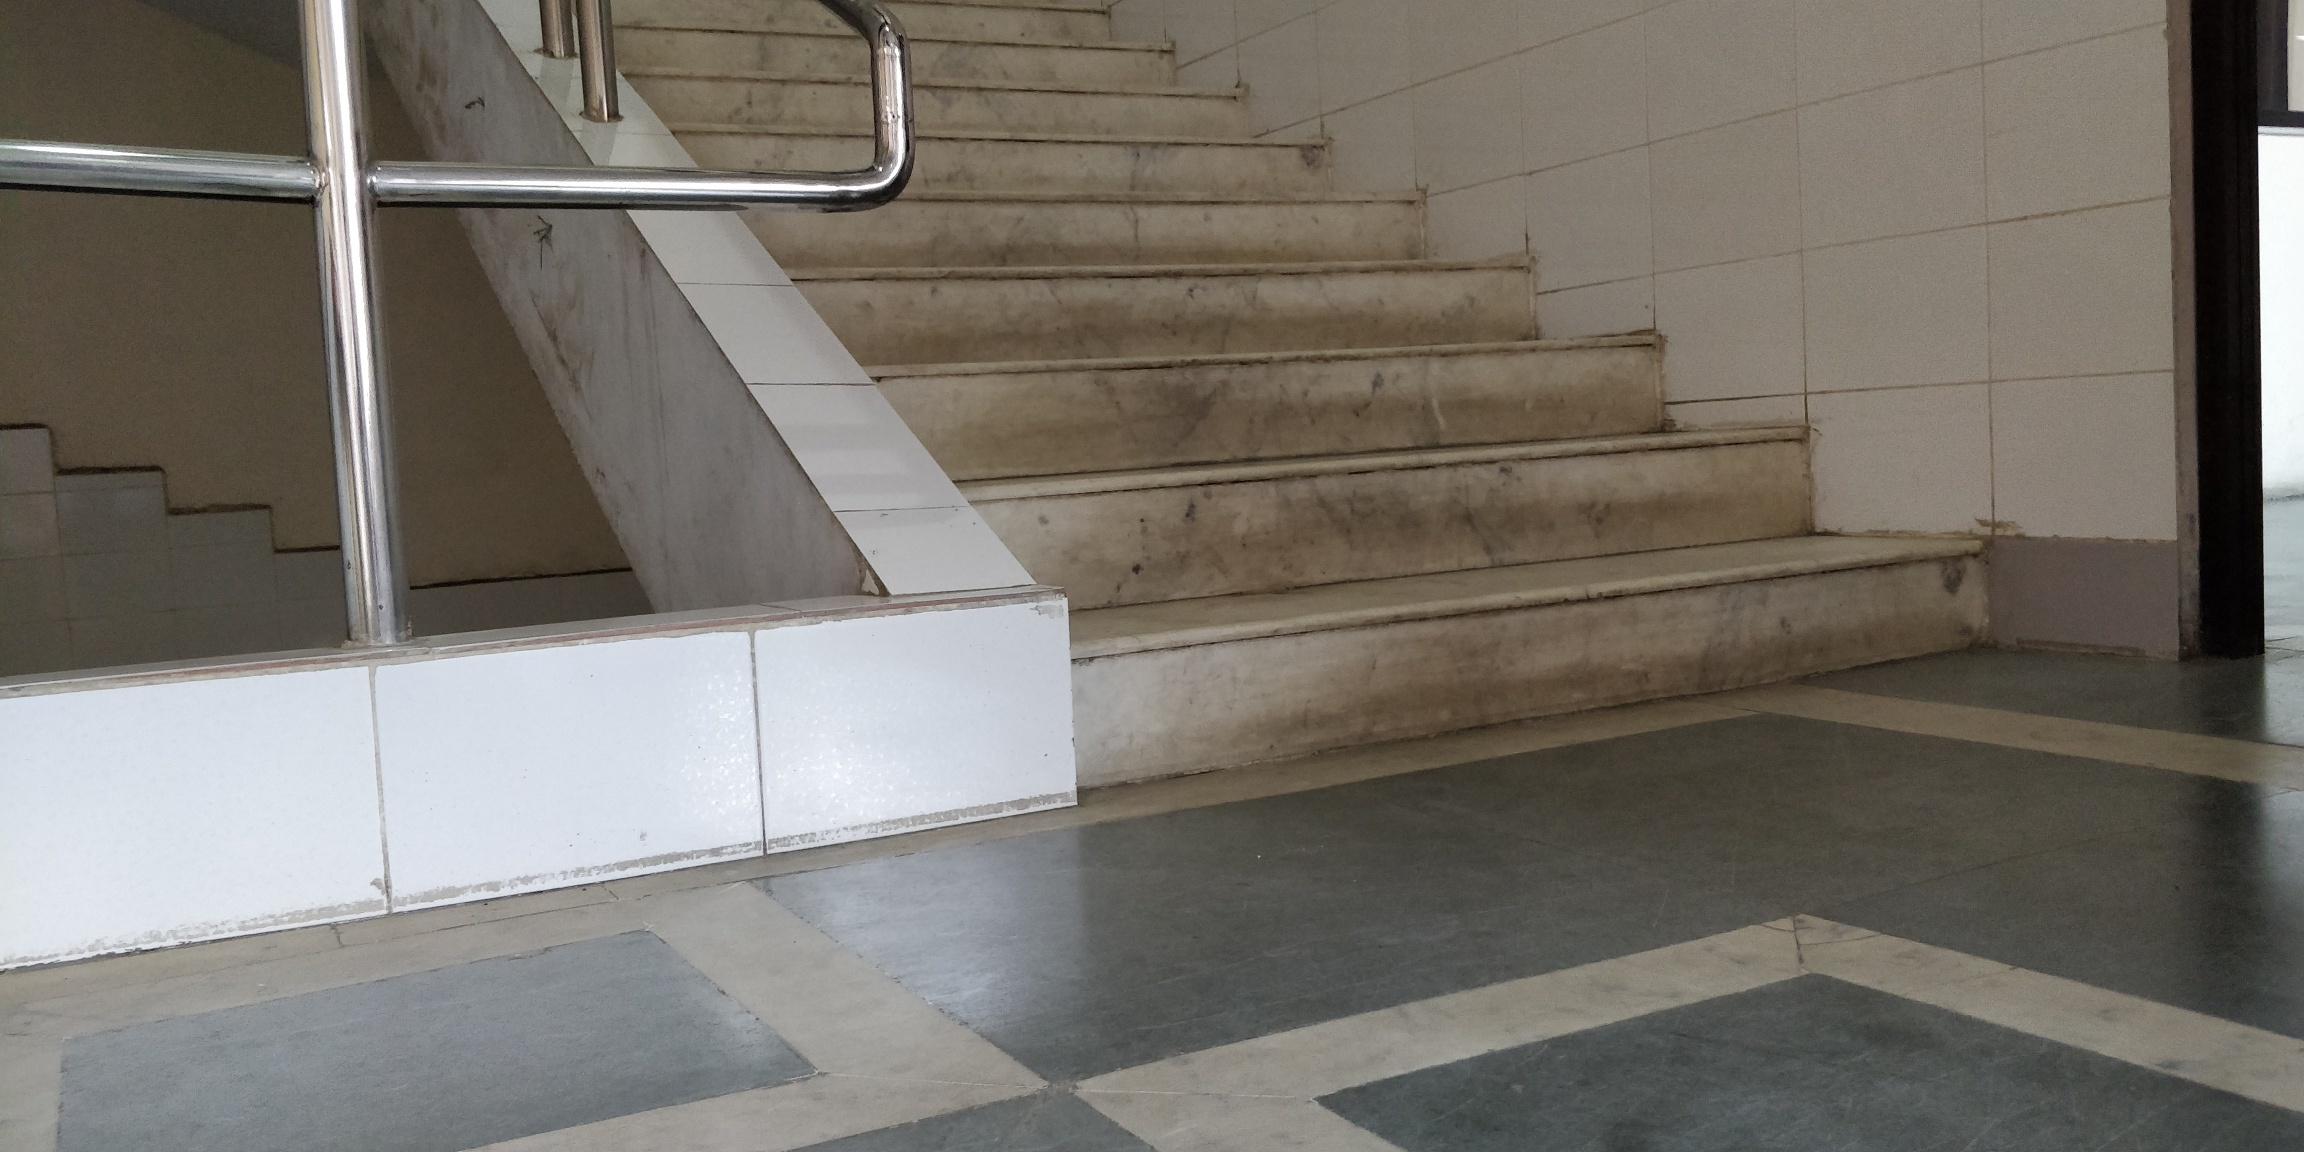stairs_up: (576, 3, 2031, 689)
